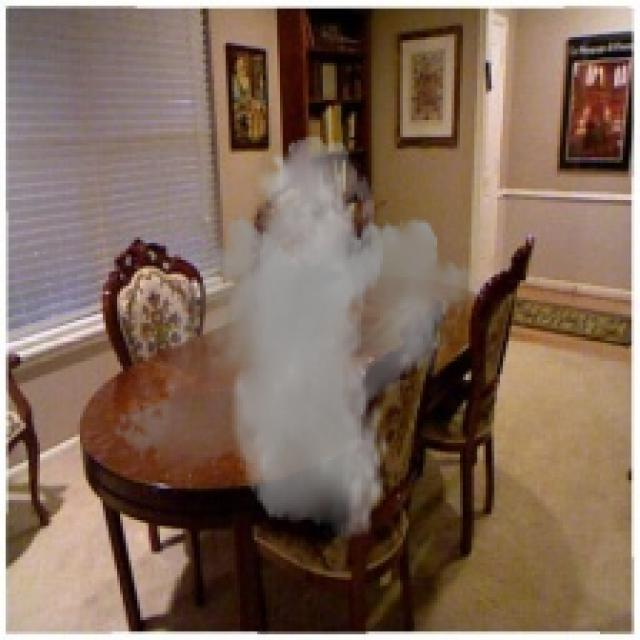Smoke: (111, 135, 486, 540)
